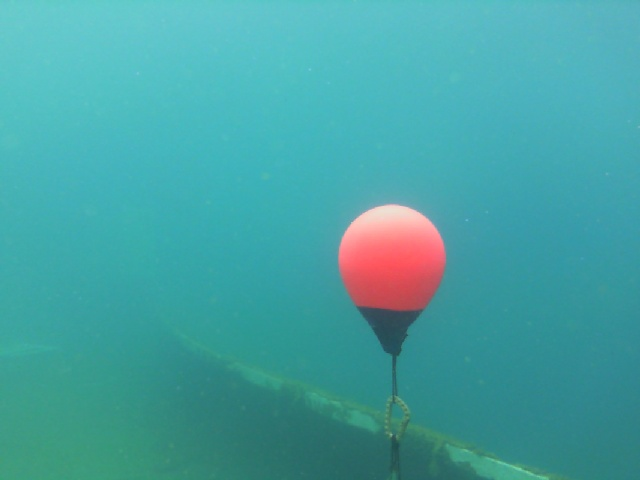buoy_red: (335, 201, 447, 362)
